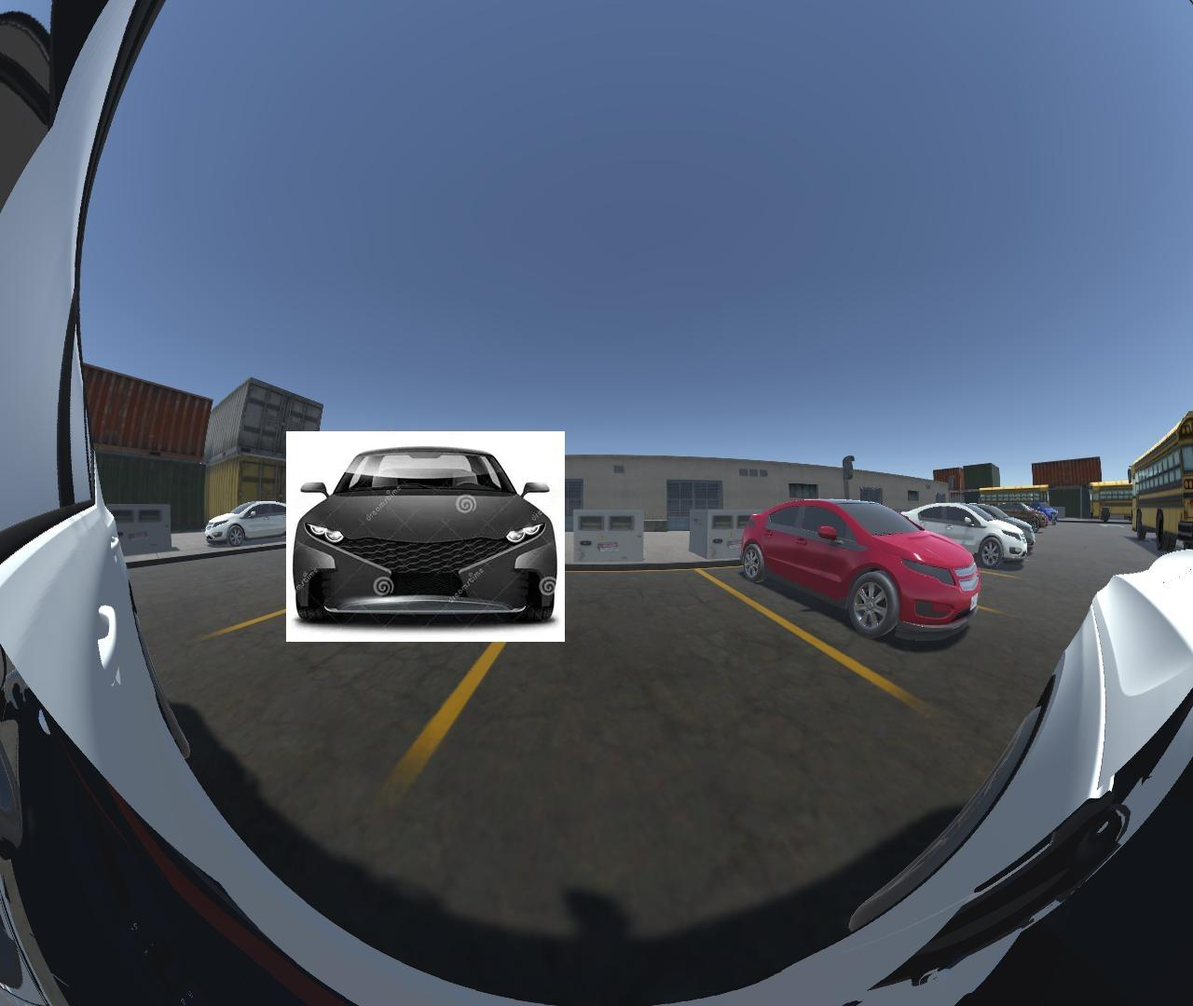Car: (283, 433, 564, 641)
